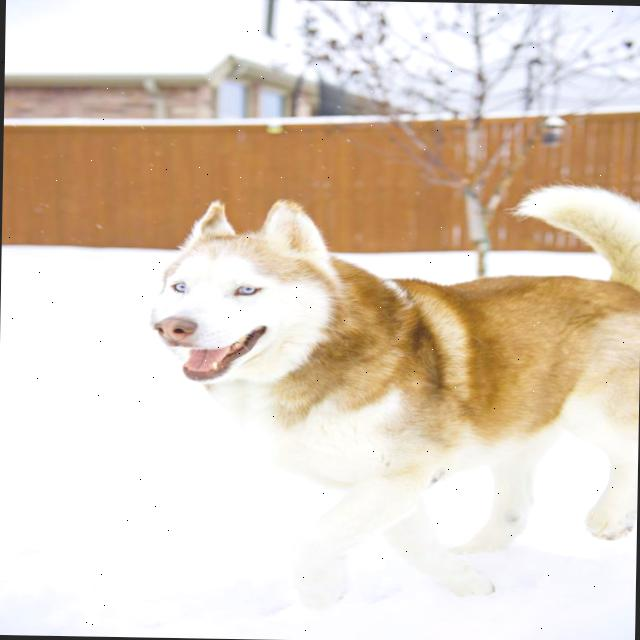siberian_husky_dog: (125, 184, 374, 426)
